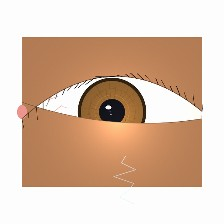foreign_body_visible: (45, 121, 88, 156)
